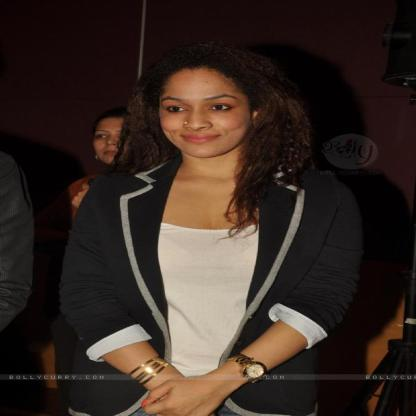face: (161, 71, 255, 158), (94, 120, 148, 165)
